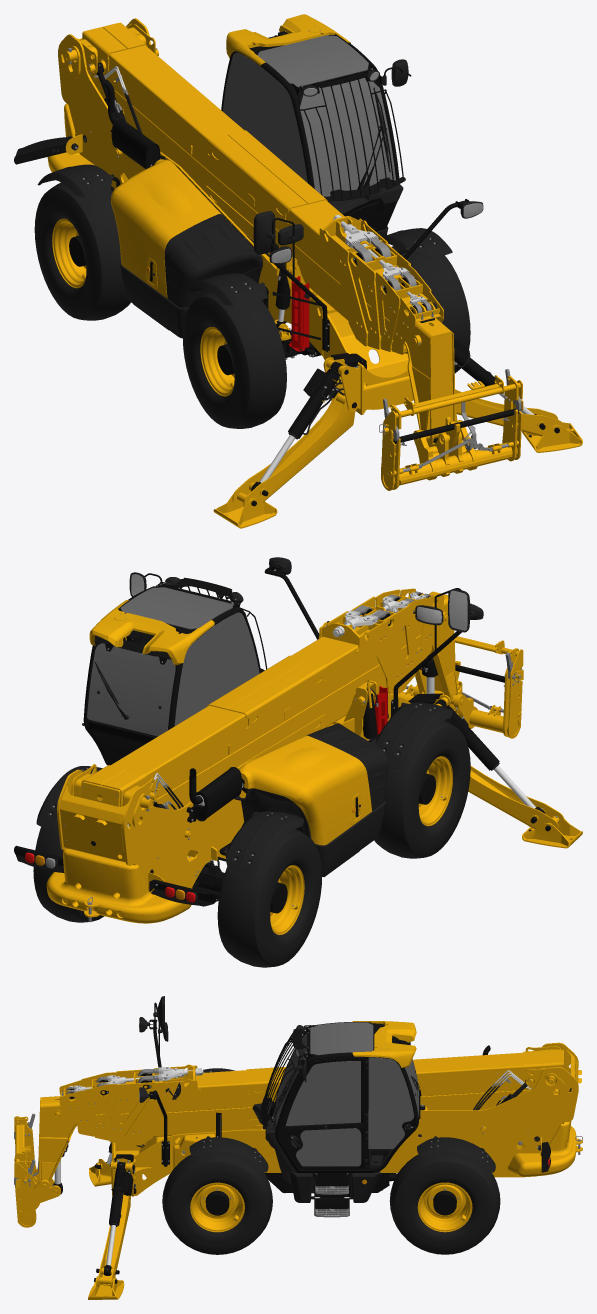
3 renders of one model, top to bottom at view 1: azimuth 30°, elevation 25°; view 2: azimuth 150°, elevation 25°; view 3: azimuth 270°, elevation 25°, orthographic. The views are drawn at different scales.
Visible parts, largest first — view 1: P421-540-200_1-Boom, P421-540-200_2-Cab, P421-540-200_3-Chassis, P421-540-200_6-Bonnet, P421-540-200_12-WheelsFR, P421-540-200_11_Specification, P421-540-200_12-WheelsRR, P421-540-200_8-HydraulicSystem, P421-540-200_12-WheelsFL, P421-540-200_9-Lights, P421-540-200_10-PowerTrain; view 2: P421-540-200_1-Boom, P421-540-200_3-Chassis, P421-540-200_2-Cab, P421-540-200_11_Specification, P421-540-200_6-Bonnet, P421-540-200_12-WheelsRR, P421-540-200_12-WheelsFR, P421-540-200_9-Lights, P421-540-200_8-HydraulicSystem, P421-540-200_12-WheelsRL, P421-540-200_10-PowerTrain; view 3: P421-540-200_1-Boom, P421-540-200_2-Cab, P421-540-200_3-Chassis, P421-540-200_12-WheelsFL, P421-540-200_12-WheelsRL, P421-540-200_11_Specification, P421-540-200_8-HydraulicSystem, P421-540-200_7-FuelSystem, P421-540-200_9-Lights, P421-540-200_10-PowerTrain.
Part boxes in pixels (x1,y1,x2,y2): P421-540-200_1-Boom: (65,22,523,490); P421-540-200_2-Cab: (221,14,411,231); P421-540-200_3-Chassis: (47,18,582,528); P421-540-200_6-Bonnet: (111,159,262,307); P421-540-200_12-WheelsFR: (182,291,286,428); P421-540-200_11_Specification: (37,79,452,350); P421-540-200_12-WheelsRR: (34,182,130,320); P421-540-200_8-HydraulicSystem: (88,62,545,496); P421-540-200_12-WheelsFL: (390,246,470,373); P421-540-200_9-Lights: (14,68,483,263); P421-540-200_10-PowerTrain: (69,235,321,375); P421-540-200_1-Boom: (71,588,523,825); P421-540-200_3-Chassis: (46,680,582,923); P421-540-200_2-Cab: (82,572,267,765); P421-540-200_11_Specification: (36,588,470,877); P421-540-200_6-Bonnet: (239,723,388,845); P421-540-200_12-WheelsRR: (217,829,322,967); P421-540-200_12-WheelsFR: (374,720,470,858); P421-540-200_9-Lights: (14,557,483,906); P421-540-200_8-HydraulicSystem: (127,614,544,876); P421-540-200_12-WheelsRL: (33,827,103,922); P421-540-200_10-PowerTrain: (192,773,435,913); P421-540-200_1-Boom: (14,1046,565,1227); P421-540-200_2-Cab: (252,1021,425,1172); P421-540-200_3-Chassis: (88,1042,582,1299); P421-540-200_12-WheelsFL: (162,1154,272,1254); P421-540-200_12-WheelsRL: (389,1154,500,1254); P421-540-200_11_Specification: (153,996,495,1217); P421-540-200_8-HydraulicSystem: (53,1070,571,1275); P421-540-200_7-FuelSystem: (275,1149,380,1202); P421-540-200_9-Lights: (139,1017,550,1172); P421-540-200_10-PowerTrain: (203,1173,458,1215).
Size of the model in its own units: 3.82 by 3.02 by 6.89.
